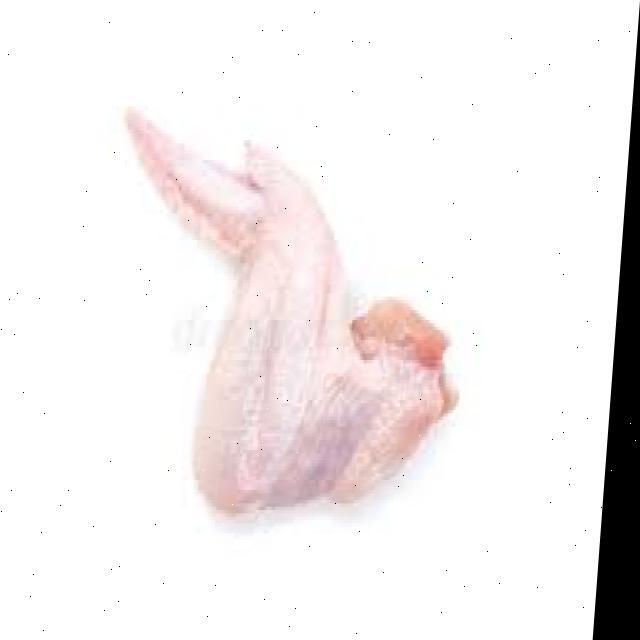wing: (100, 93, 482, 530)
